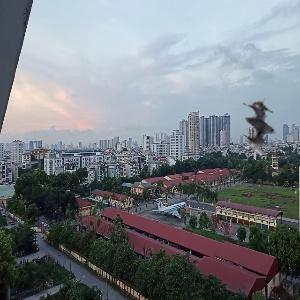drone: (231, 95, 298, 162)
